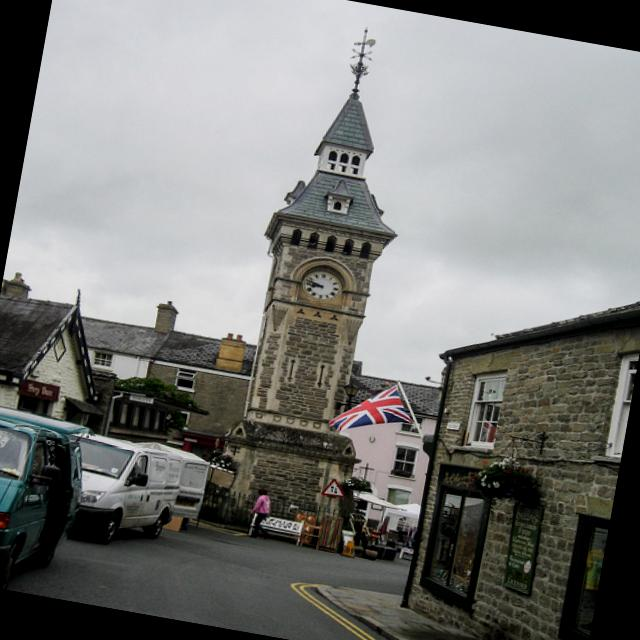Vehicle: (64, 434, 212, 561), (0, 400, 92, 599), (0, 405, 95, 595)
